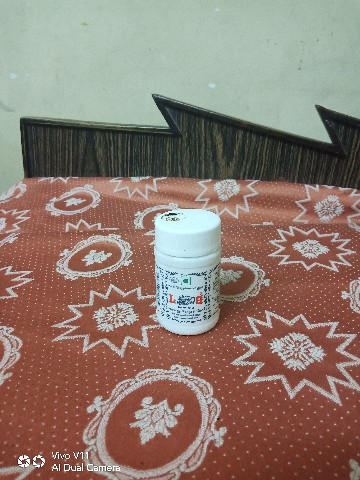lgasafoetidapowder small: (145, 198, 241, 346)
